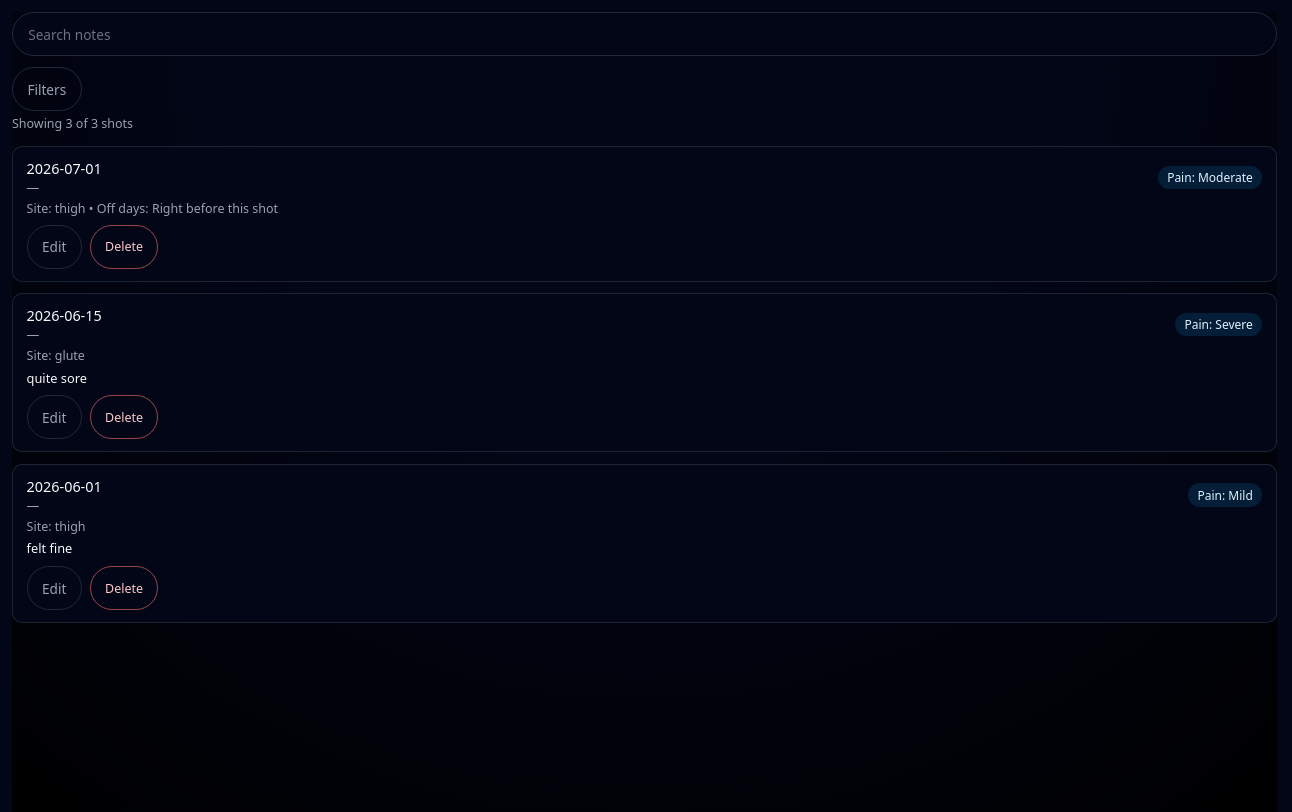
Test case: HistoryView › filters by a structured facet
This screenshot has width=1292, height=812.
Click the button "Filters".
click(47, 89)  # box [12, 67, 82, 111]
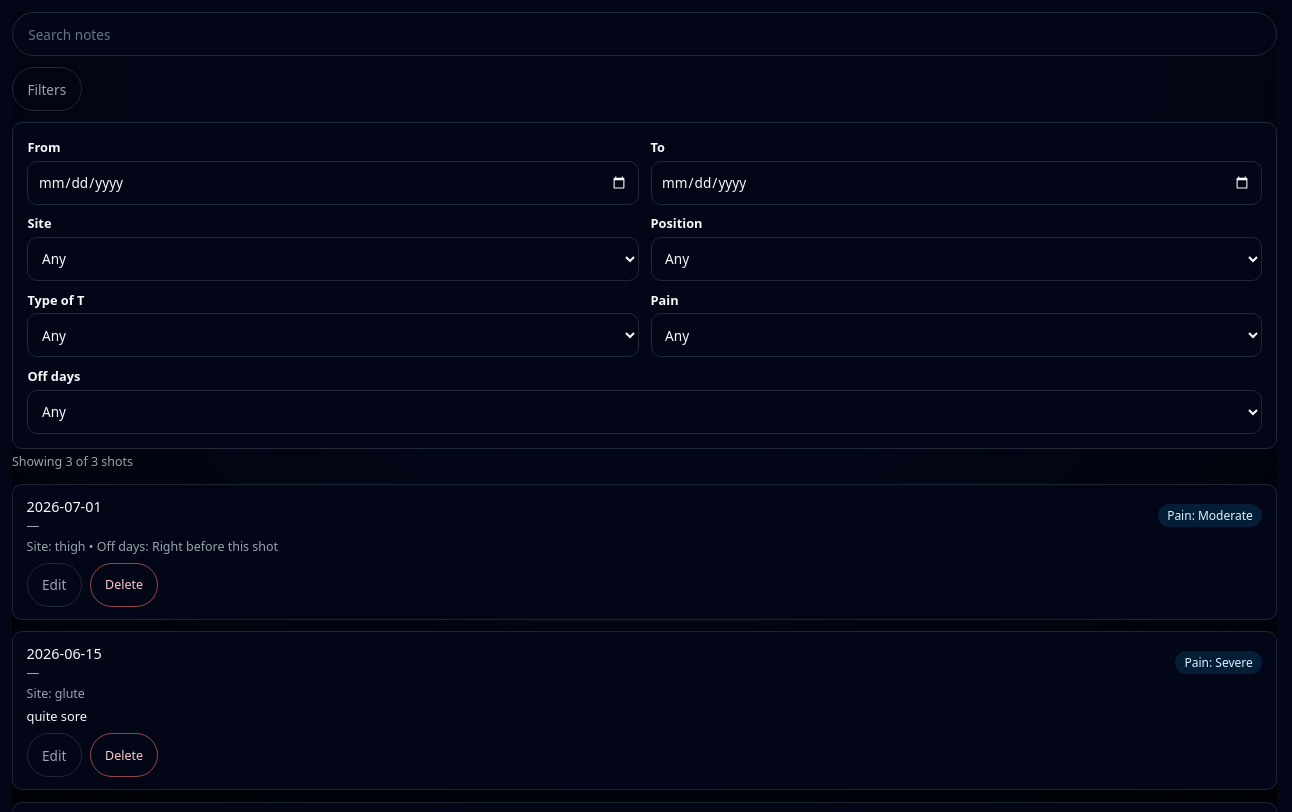
Select "thigh" in the dropdown labelled "Site" at (333, 259), box [27, 237, 638, 281]
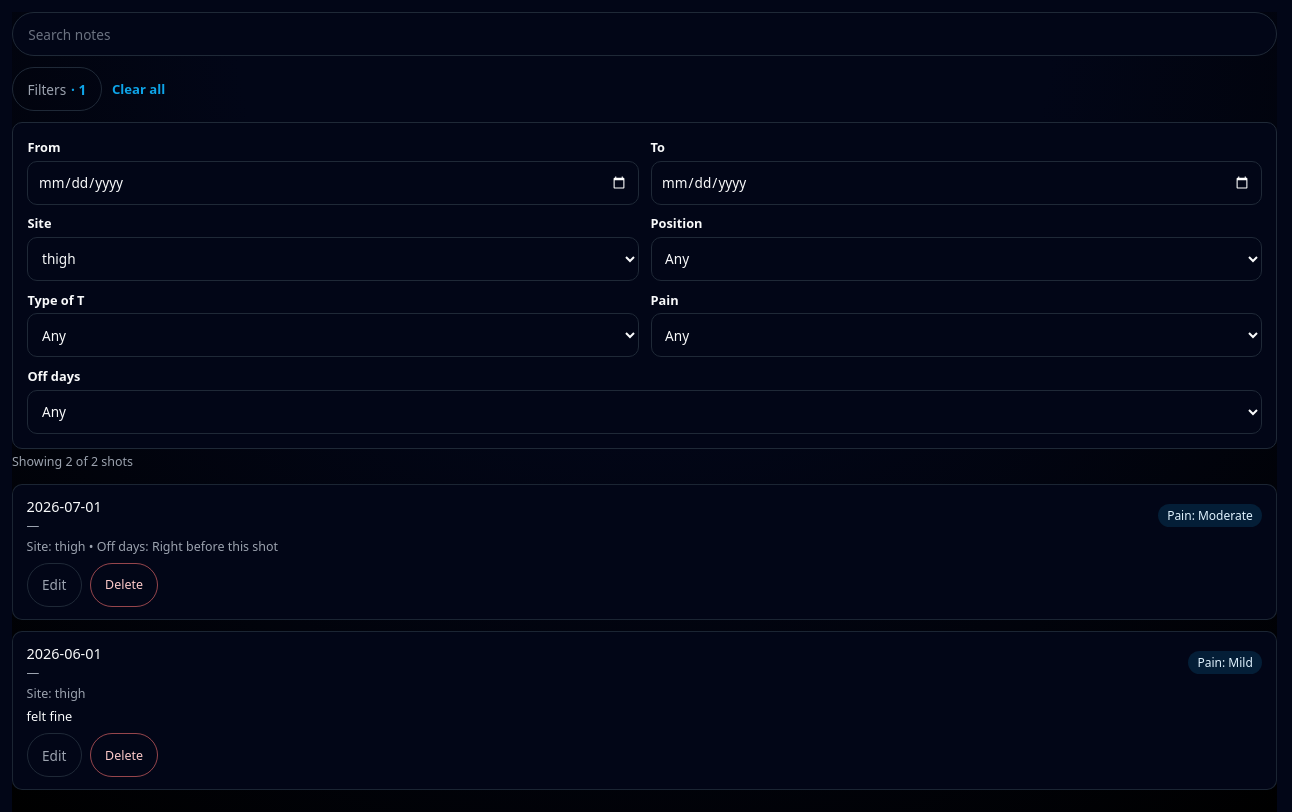
Expected: the text "Showing 2 of 2 shots" is shown, [12, 453, 133, 470]
